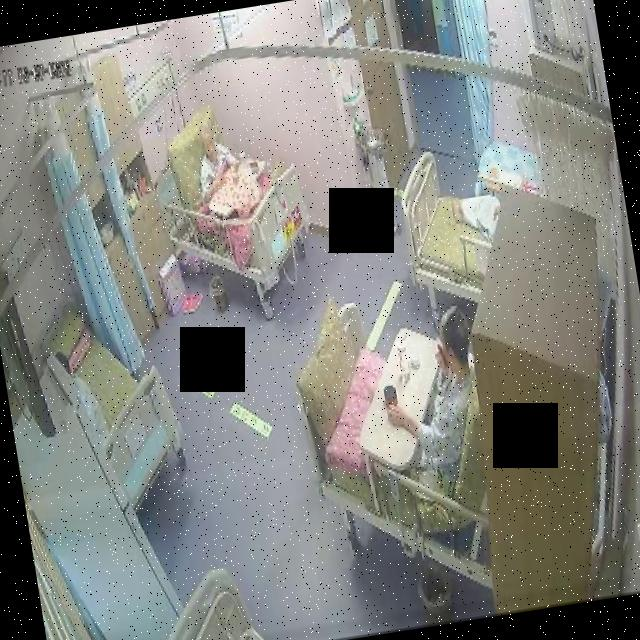bed: (284, 287, 504, 577), (152, 114, 334, 326), (46, 303, 195, 522), (391, 139, 514, 313)
patient: (368, 296, 496, 498), (188, 118, 242, 196)
sit: (367, 296, 498, 504), (188, 120, 244, 201)
